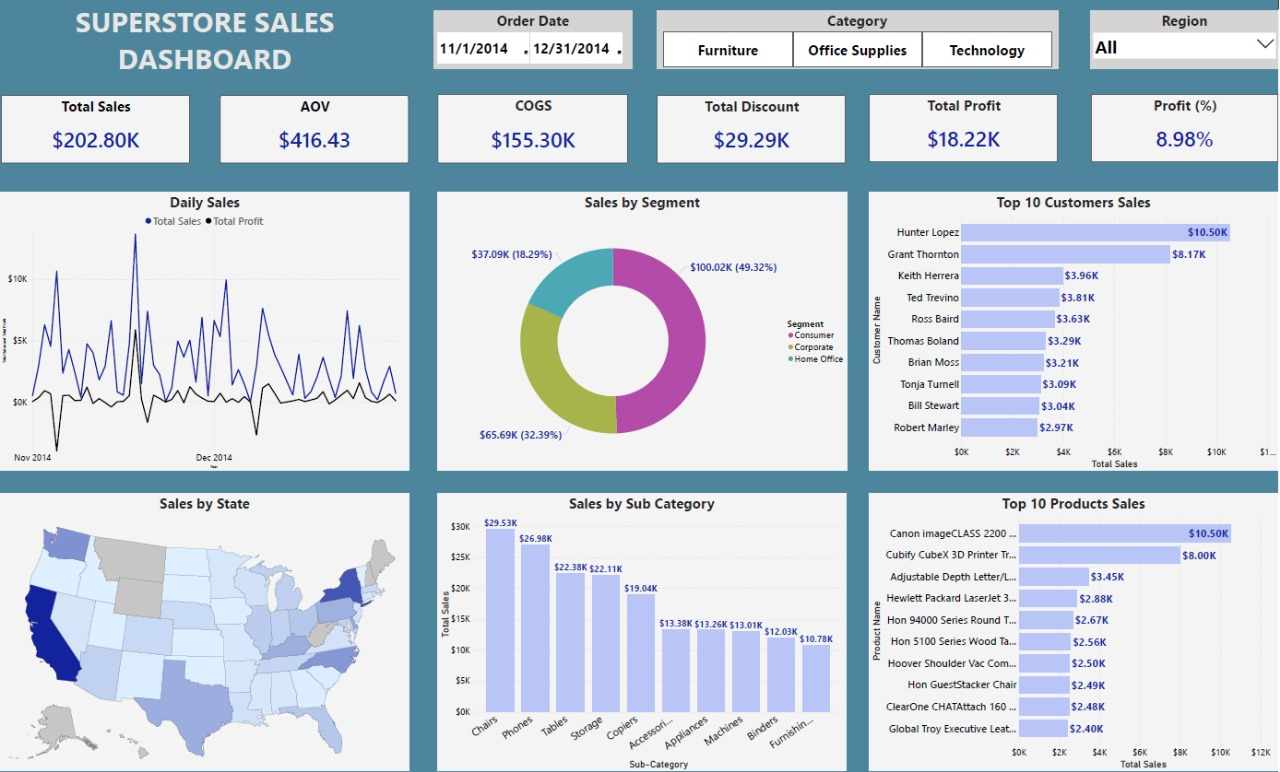

The dashboard page shown, as its layout file describes it:
{"tool":"powerbi","page":{"name":"Page 1","canvas":[4878,2950],"ordinal":0},"visuals":[{"type":"card","title":"Total Sales","fields":{"Values":["Superstore.Sales"]},"box":[0,360.8,721.7,261.5],"z":0},{"type":"card","title":"Total Discount","fields":{"Values":["Superstore.Total Discount"]},"box":[2504.9,360.8,721.7,261.5],"z":1000},{"type":"card","title":"Profit (%)","fields":{"Values":["Superstore.PctProfit"]},"box":[4162.6,355.6,716.4,261.5],"z":2000},{"type":"shapeMap","title":"Sales by State","fields":{"Value":["Superstore.Sales"],"Category":["Superstore.State"]},"box":[0,1882.6,1558.4,1061.6],"z":3000},{"type":"lineChart","title":"Daily Sales","fields":{"Category":["Superstore.Order Date.Variation.Date Hierarchy.Year","Superstore.Order Date.Variation.Date Hierarchy.Quarter","Superstore.Order Date.Variation.Date Hierarchy.Month","Superstore.Order Date.Variation.Date Hierarchy.Day"],"Y":["Superstore.Sales","Superstore.Profit"]},"box":[0,732.1,1558.4,1061.6],"z":4000},{"type":"card","title":"AOV","fields":{"Values":["Superstore.AOV"]},"box":[836.7,360.8,721.7,261.5],"z":5000},{"type":"textbox","box":[0,0,1558.4,303.3],"z":6000},{"type":"clusteredColumnChart","title":"Sales by Sub Category","fields":{"Category":["Superstore.Sub-Category"],"Y":["Superstore.Sales"]},"box":[1668.2,1882.6,1558.4,1061.6],"z":7000},{"type":"donutChart","title":"Sales by Segment","fields":{"Y":["Superstore.Sales"],"Category":["Superstore.Segment"]},"box":[1668.2,732.1,1563.6,1061.6],"z":8000},{"type":"card","title":"Total Profit","fields":{"Values":["Superstore.Profit"]},"box":[3315.5,355.6,721.7,261.5],"z":9000},{"type":"card","title":"COGS","fields":{"Values":["Superstore.COGS"]},"box":[1668.2,355.6,726.9,266.7],"z":10000},{"type":"clusteredBarChart","title":"Top 10 Customers Sales","fields":{"Category":["Superstore.Customer Name"],"Y":["Superstore.Sales"]},"box":[3315.5,732.1,1563.6,1061.6],"z":11000},{"type":"clusteredBarChart","title":"Top 10 Products Sales","fields":{"Y":["Superstore.Sales"],"Category":["Superstore.Product Name"]},"box":[3315.5,1882.6,1563.6,1061.6],"z":12000},{"type":"slicer","title":"Order Date","fields":{"Values":["Superstore.Order Date"]},"box":[1652.5,36.6,758.3,224.9],"z":13000},{"type":"slicer","title":"Category","fields":{"Values":["Superstore.Category"]},"box":[2504.9,36.6,1532.2,224.9],"z":14000},{"type":"slicer","title":"Region","fields":{"Values":["Superstore.Region"]},"box":[4162.6,36.6,716.4,224.9],"z":15000}]}

Visuals, with their boxes in screenshot pixels (x1, y1, x2, y2), scaled from the page's 4878x2950 canvas onto the 1280x772 screenshot:
"Total Sales" card: bbox=(0, 94, 189, 163)
"Total Discount" card: bbox=(657, 94, 847, 163)
"Profit (%)" card: bbox=(1092, 93, 1279, 161)
"Sales by State" shapeMap: bbox=(0, 493, 409, 770)
"Daily Sales" lineChart: bbox=(0, 192, 409, 469)
"AOV" card: bbox=(220, 94, 409, 163)
textbox: bbox=(0, 0, 409, 79)
"Sales by Sub Category" clusteredColumnChart: bbox=(438, 493, 847, 770)
"Sales by Segment" donutChart: bbox=(438, 192, 848, 469)
"Total Profit" card: bbox=(870, 93, 1059, 161)
"COGS" card: bbox=(438, 93, 628, 163)
"Top 10 Customers Sales" clusteredBarChart: bbox=(870, 192, 1279, 469)
"Top 10 Products Sales" clusteredBarChart: bbox=(870, 493, 1279, 770)
"Order Date" slicer: bbox=(434, 10, 633, 68)
"Category" slicer: bbox=(657, 10, 1059, 68)
"Region" slicer: bbox=(1092, 10, 1279, 68)
